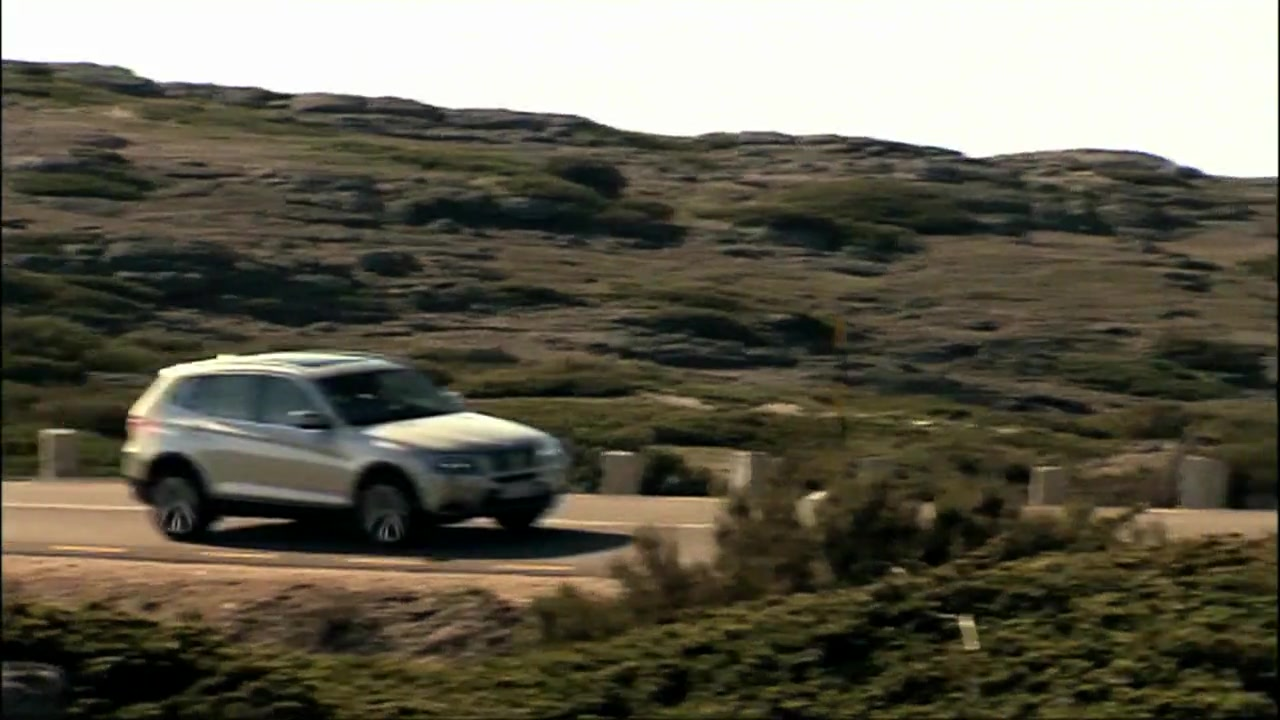car: (122, 353, 573, 550)
